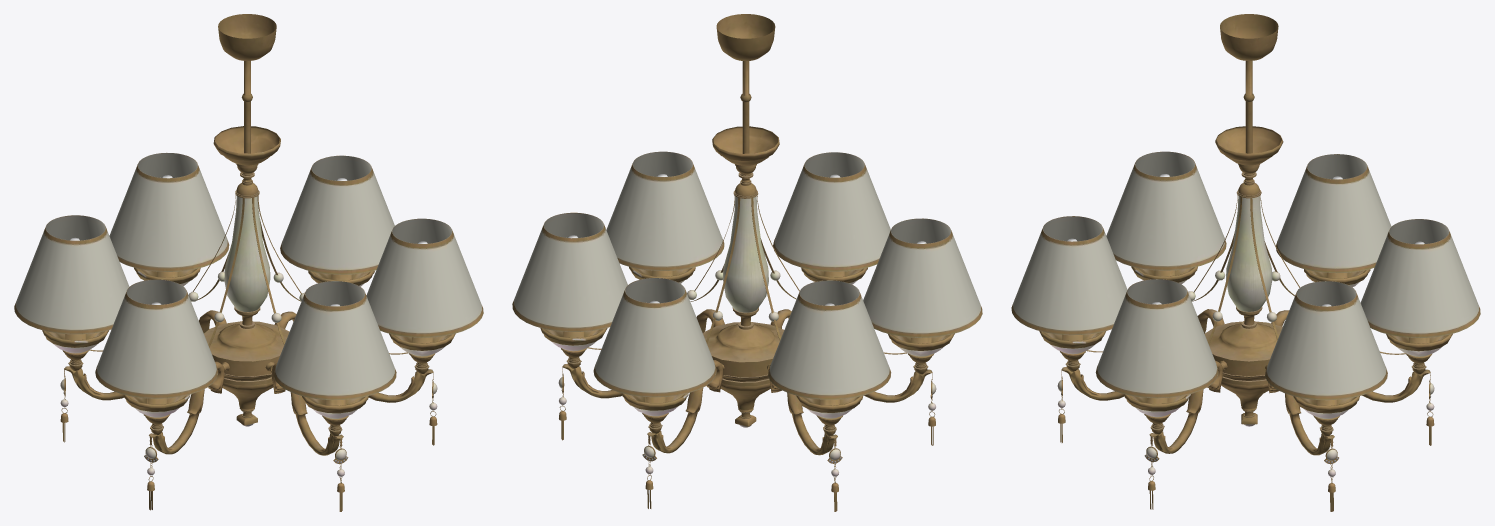
File: Chandelier_01.glb
The picture shows the model from 3 angles, left to right: view 1: azimuth 30°, elevation 25°; view 2: azimuth 150°, elevation 25°; view 3: azimuth 270°, elevation 25°; orthographic projection.
Visible parts, largest first — view 1: Chandelier_01; view 2: Chandelier_01; view 3: Chandelier_01.
Part boxes in pixels (x1,y1,x2,y2): Chandelier_01: [14, 14, 483, 511]; Chandelier_01: [512, 14, 982, 511]; Chandelier_01: [1011, 14, 1480, 511].
Bounding box in the file's own units: 0.7465 × 0.7983 × 0.8155.
2 materials, 1 textured.
